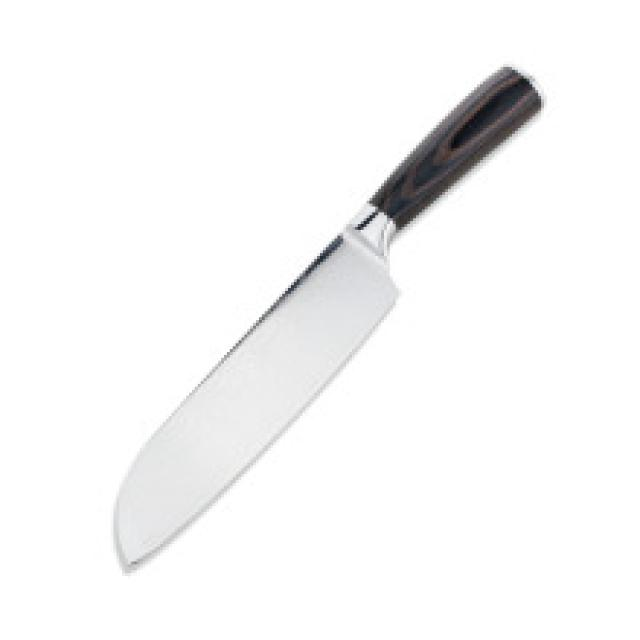Knife: (113, 67, 535, 570)
